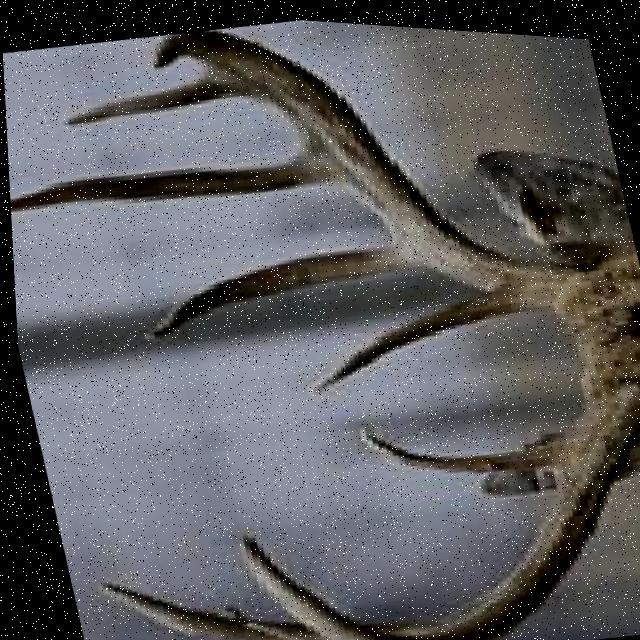L-F: (150, 26, 606, 298)
L-G1: (304, 283, 527, 387)
L-G2: (141, 238, 427, 336)
L-G3: (8, 144, 338, 209)
R-F: (232, 375, 640, 640)
R-G1: (353, 421, 548, 466)
